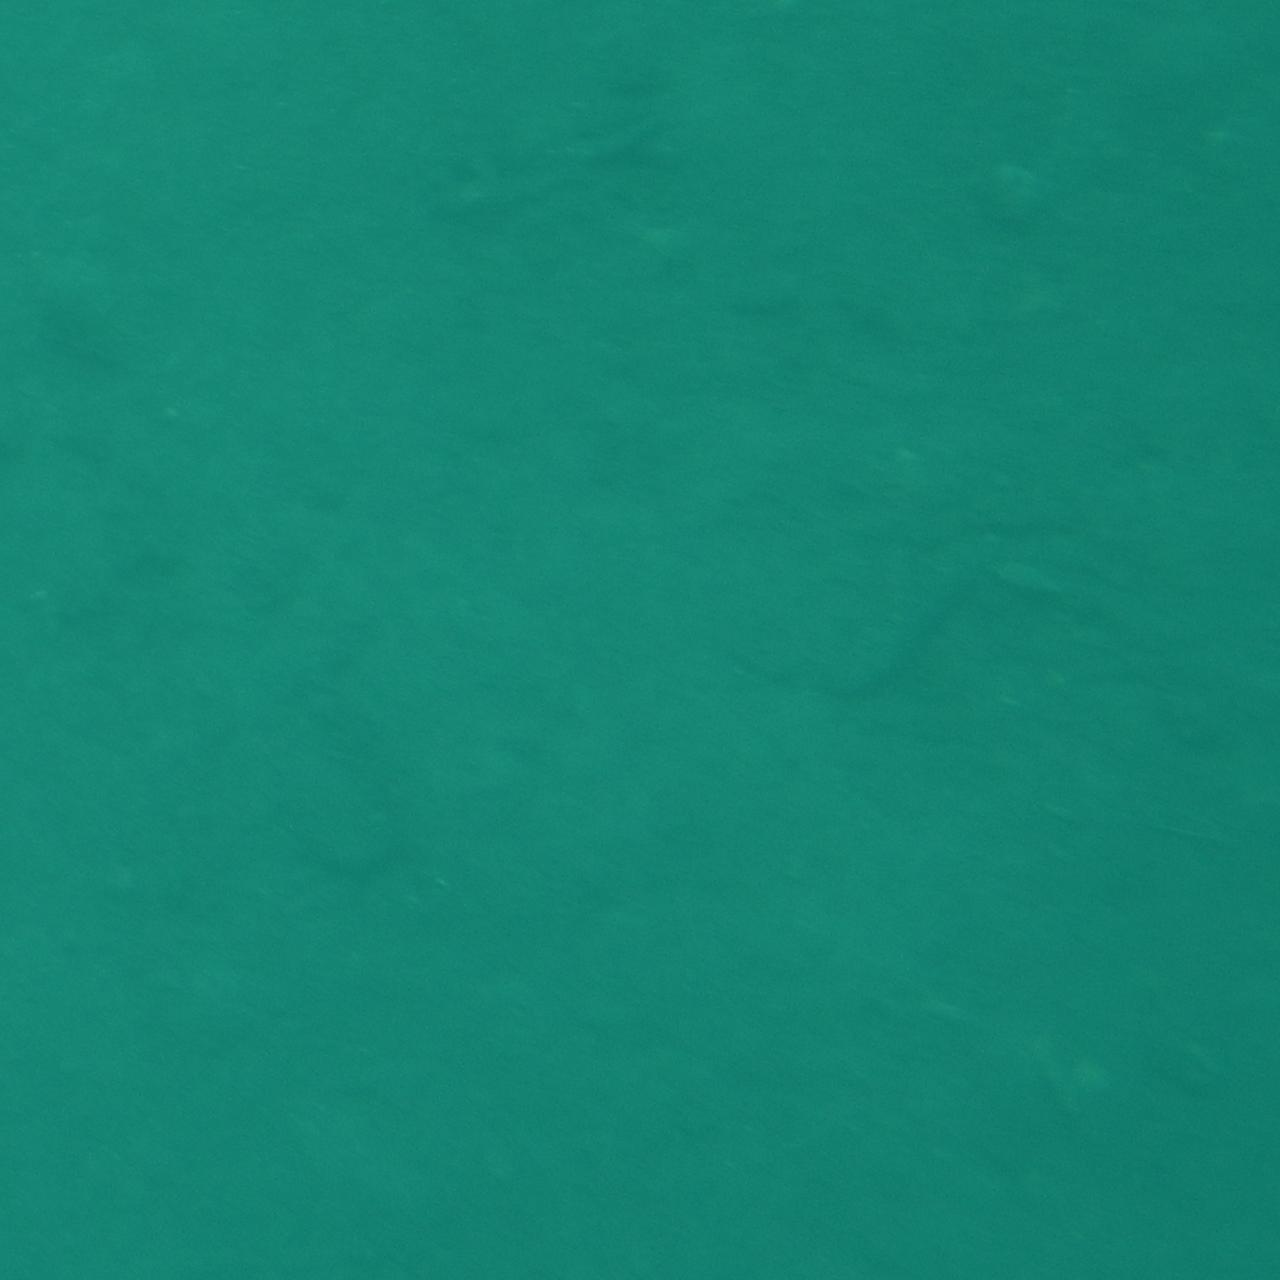Holothuria tubulosa: (813, 551, 1167, 729)
